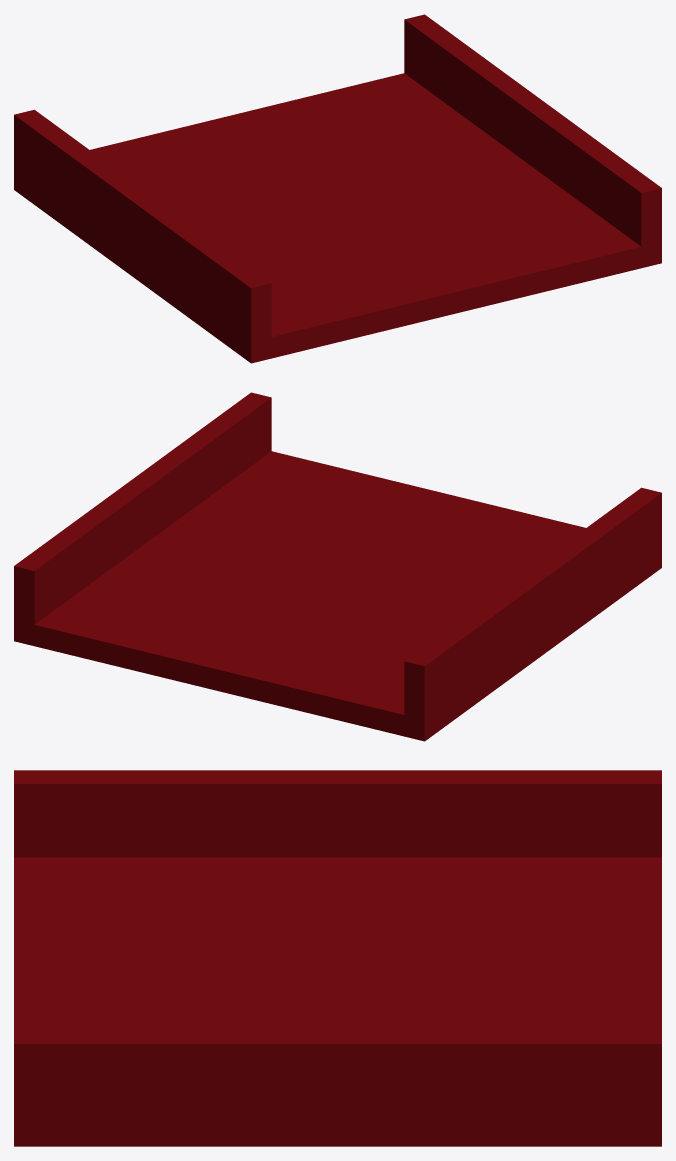
File: RedRoof_2Edges.glb
3 views of the same model, one above another, from view 1: azimuth 30°, elevation 25°; view 2: azimuth 150°, elevation 25°; view 3: azimuth 270°, elevation 25° (orthographic). The views are drawn at different scales.
Visible parts, largest first — view 1: roof_flat_2Edges_red; view 2: roof_flat_2Edges_red; view 3: roof_flat_2Edges_red.
Boxes of the visible parts, <box> form: roof_flat_2Edges_red: <box>14,14,661,363</box>; roof_flat_2Edges_red: <box>14,392,661,741</box>; roof_flat_2Edges_red: <box>14,770,661,1146</box>.
Size of what is drawn, in the model's own units: 4 by 0.7 by 4.
1 material, 1 textured.
